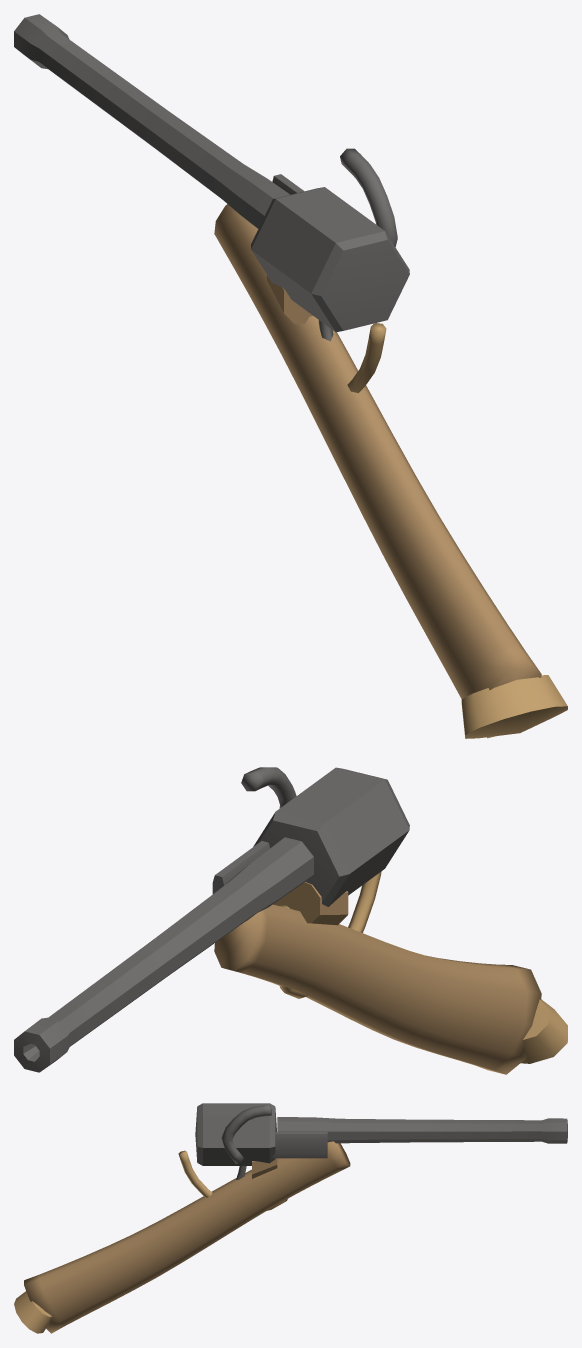
The model's file is revolver.glb.
3 renders of one model, top to bottom at view 1: azimuth 30°, elevation 25°; view 2: azimuth 150°, elevation 25°; view 3: azimuth 270°, elevation 25°, orthographic. The views are drawn at different scales.
Parts seen in each view (by area): view 1: revolver; view 2: revolver; view 3: revolver.
Boxes of the visible parts, x1=… form: revolver: x1=14, y1=14, x2=567, y2=738; revolver: x1=14, y1=767, x2=567, y2=1074; revolver: x1=14, y1=1103, x2=567, y2=1333.
Bounding box in the file's own units: 0.1111 × 0.4189 × 0.8786.
